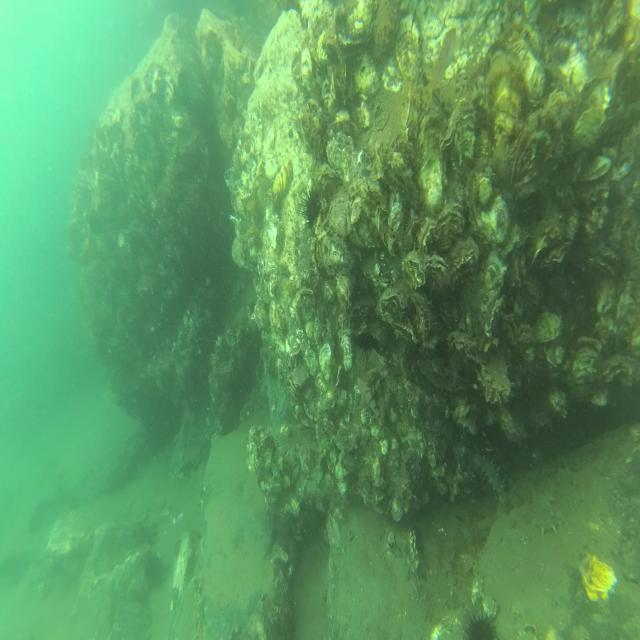echinus: (459, 601, 498, 640), (297, 181, 324, 233)
holothurian: (471, 446, 509, 505), (533, 468, 564, 533)
